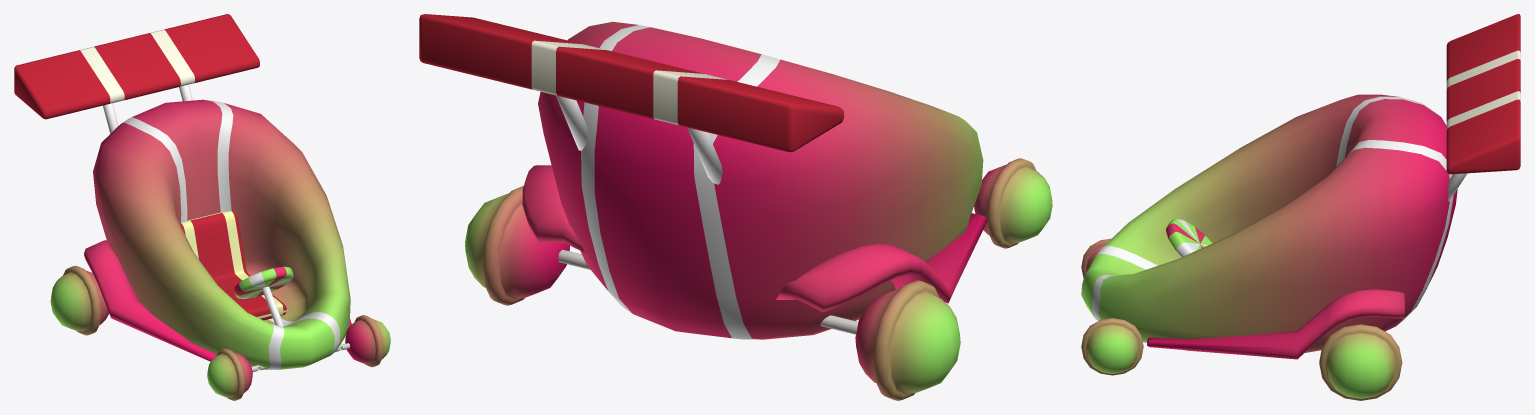
The model's file is cw_car8.fbx.
The picture shows the model from 3 angles, left to right: view 1: azimuth 30°, elevation 25°; view 2: azimuth 150°, elevation 25°; view 3: azimuth 270°, elevation 25°; orthographic projection. The views are drawn at different scales.
Visible parts, largest first — view 1: cw_car8, w8.001, w8.003, w8.002; view 2: cw_car8, w8.001, w8, w8.003; view 3: cw_car8, w8, w8.002.
Boxes of the visible parts, left/top/right/bottom form: cw_car8: left=14, top=14, right=351, bottom=371; w8.001: left=50, top=265, right=109, bottom=335; w8.003: left=207, top=348, right=252, bottom=400; w8.002: left=345, top=315, right=390, bottom=367; cw_car8: left=419, top=14, right=987, bottom=339; w8.001: left=855, top=280, right=960, bottom=400; w8: left=465, top=186, right=569, bottom=305; w8.003: left=974, top=158, right=1052, bottom=248; cw_car8: left=1081, top=14, right=1520, bottom=359; w8: left=1319, top=324, right=1402, bottom=400; w8.002: left=1081, top=318, right=1143, bottom=375.
Bounding box in the file's own units: 175 × 130 × 202.
